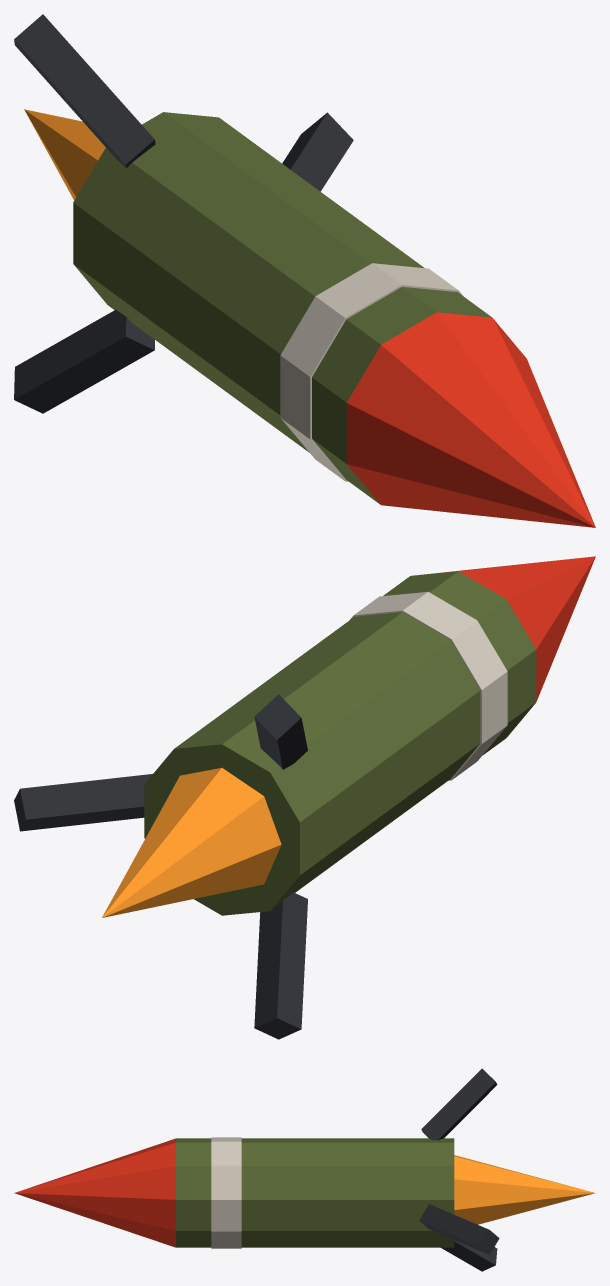
The model's file is RocketShell.obj.
3 renders of one model, top to bottom at view 1: azimuth 30°, elevation 25°; view 2: azimuth 150°, elevation 25°; view 3: azimuth 270°, elevation 25°, orthographic. The views are drawn at different scales.
Visible parts, largest first — view 1: RocketShell; view 2: RocketShell; view 3: RocketShell.
Part boxes in pixels (x1,y1,x2,y2): RocketShell: (14,14,595,527); RocketShell: (14,556,595,1039); RocketShell: (14,1068,595,1271).
Bounding box in the file's own units: 0.1952 × 0.2217 × 0.575.
